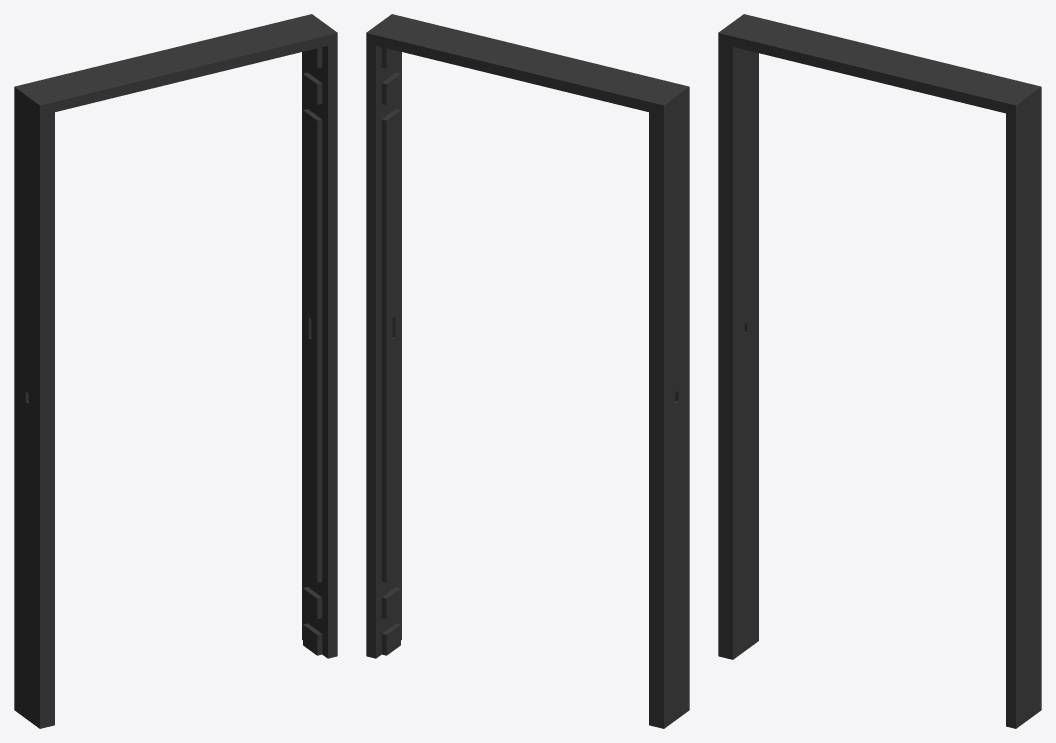
Rendered from Cell Door-0-Frame.obj.
The picture shows the model from 3 angles, left to right: view 1: azimuth 30°, elevation 25°; view 2: azimuth 150°, elevation 25°; view 3: azimuth 330°, elevation 25°; orthographic projection.
Parts seen in each view (by area): view 1: Frame; view 2: Frame; view 3: Frame.
Part boxes in pixels (<box>): Frame: <box>14,14,337,728</box>; Frame: <box>366,14,689,728</box>; Frame: <box>718,14,1041,728</box>.
Size of the model in its own units: 6 by 12 by 0.9.
1 material, 1 textured.
